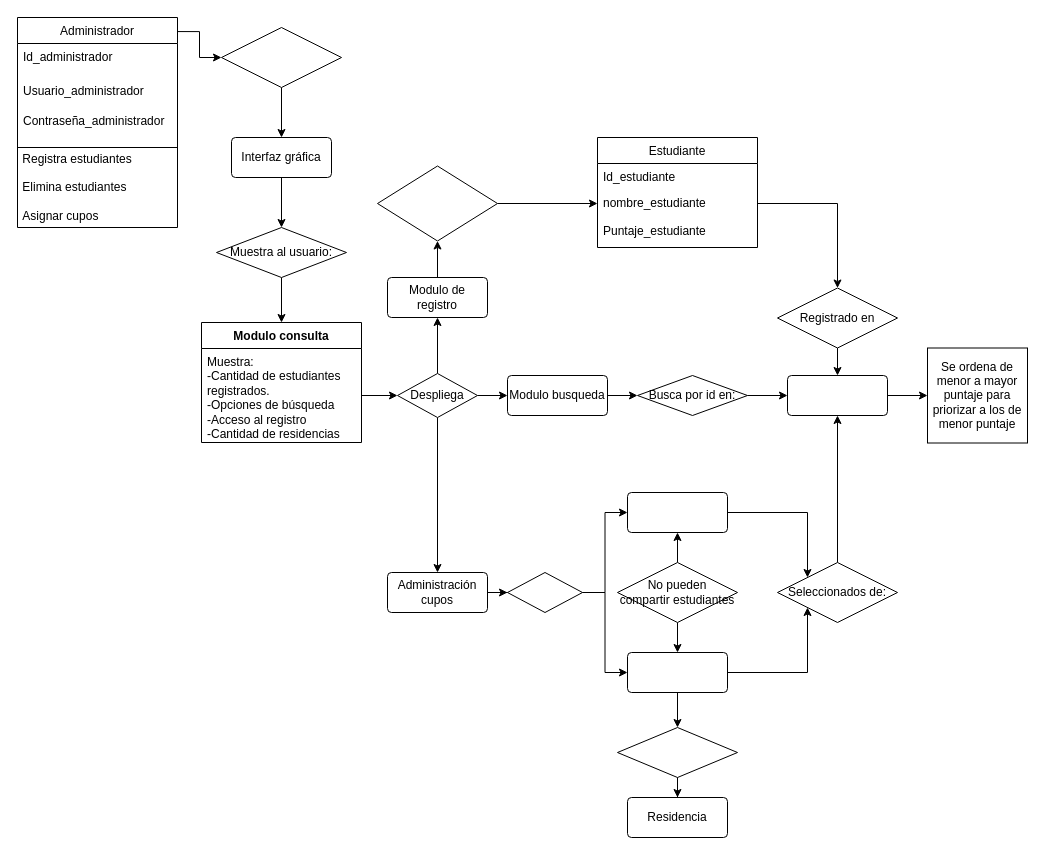
The diagram is 1045 pixels wide and 855 high, and some of its shapes have lost their labels. The centre of each missing label's shape, as x and y in pixels:
"Accede a" goes at [281,57].
"Lista de admitidos" goes at [677,672].
"Lista de Rechazados" goes at [677,512].
"Lista total de estudiantes" goes at [837,395].
"Modifica:" goes at [544,592].
"Permite añadir /modificar:" goes at [437,203].
"Se les asigna:" goes at [677,752].
